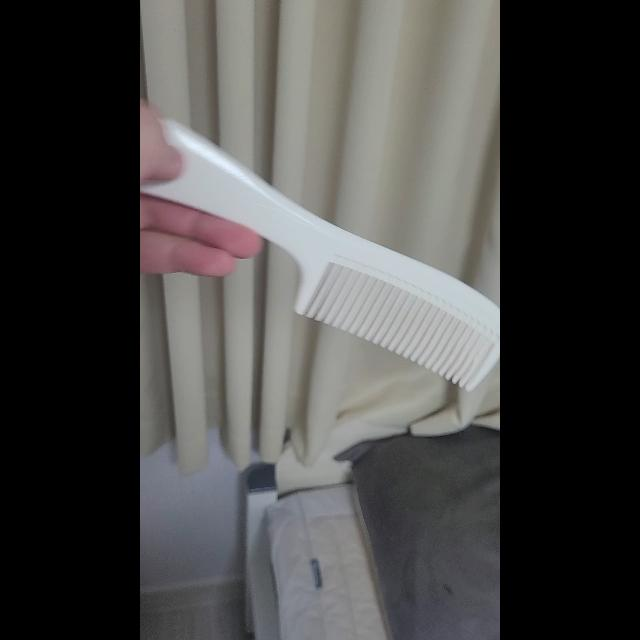COMB: (140, 114, 500, 394)
